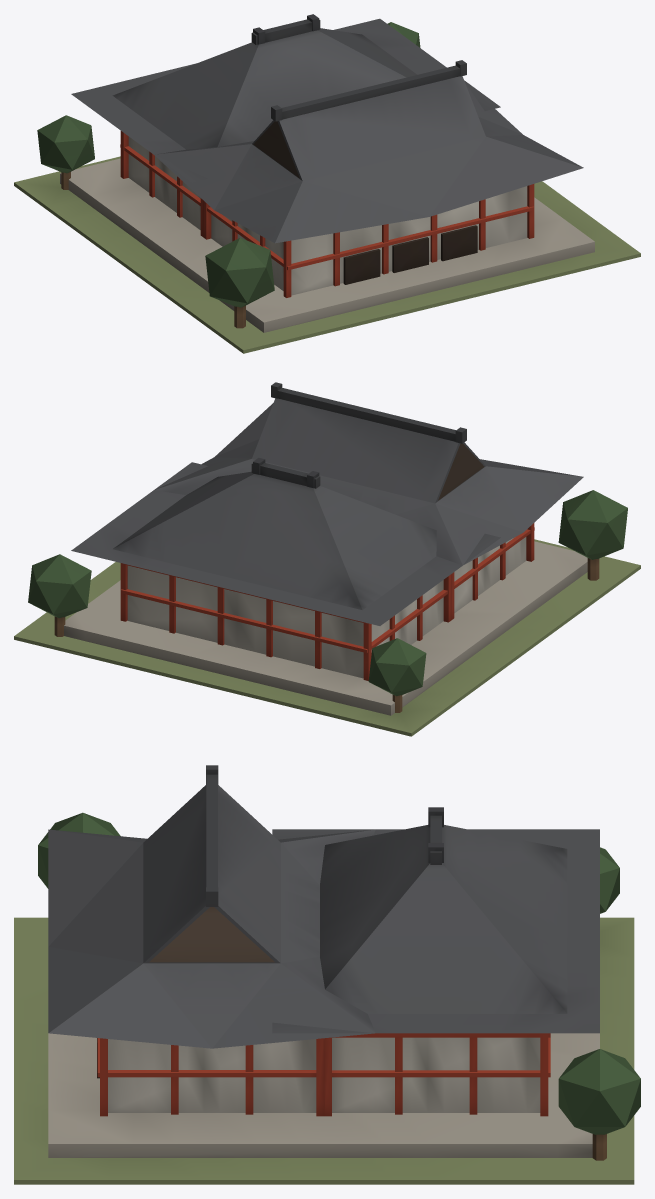
The model's file is hokkedo.glb.
The picture shows the model from 3 angles, top to bottom: view 1: azimuth 30°, elevation 25°; view 2: azimuth 150°, elevation 25°; view 3: azimuth 270°, elevation 25°; orthographic projection. The views are drawn at different scales.
Visible parts, largest first — view 1: p2_roofs, p0_grounds, p1_halls; view 2: p2_roofs, p0_grounds, p1_halls; view 3: p2_roofs, p0_grounds, p1_halls.
Boxes of the visible parts, bbox=[...] form: p2_roofs: bbox=[37, 14, 583, 328]; p0_grounds: bbox=[14, 156, 640, 353]; p1_halls: bbox=[120, 131, 534, 297]; p2_roofs: bbox=[28, 382, 627, 712]; p0_grounds: bbox=[14, 539, 640, 736]; p1_halls: bbox=[120, 523, 534, 680]; p2_roofs: bbox=[38, 765, 640, 1160]; p0_grounds: bbox=[14, 917, 634, 1184]; p1_halls: bbox=[97, 1033, 550, 1116].
Size of the model in its own units: 36.74 by 14.5 by 36.39.
